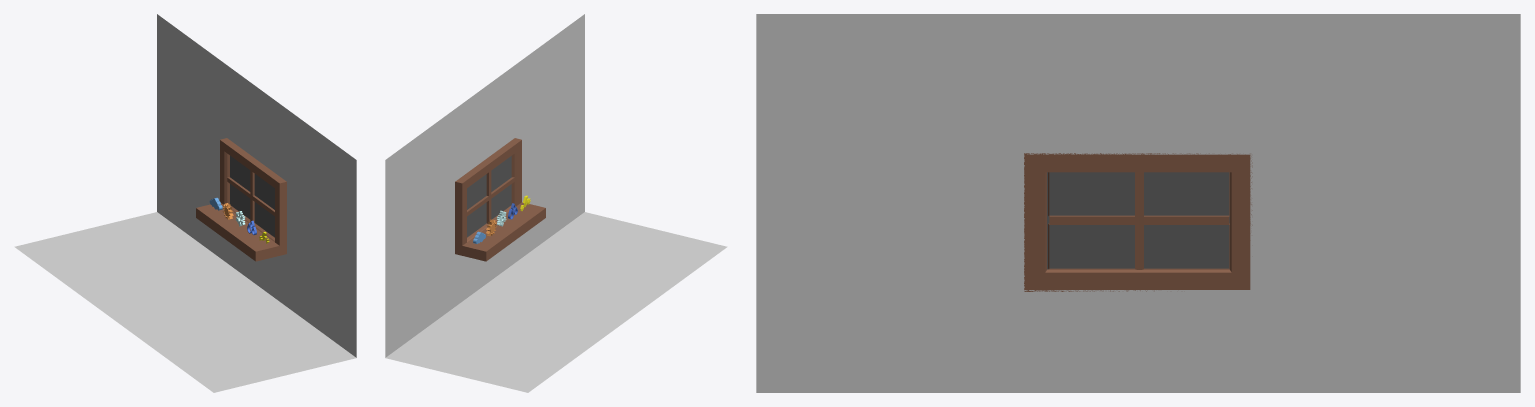
The model's file is window.glb.
The picture shows the model from 3 angles, left to right: view 1: azimuth 30°, elevation 25°; view 2: azimuth 150°, elevation 25°; view 3: azimuth 270°, elevation 25°; orthographic projection. The views are drawn at different scales.
Visible parts, largest first — view 1: Plane, Frame, Placer, Glass, Left Frame, Right frame; view 2: Plane, Frame, Placer, Glass, Right frame, Left Frame; view 3: Plane, Glass, Frame, Right frame, Left Frame.
Part boxes in pixels (x1,y1,x2,y2): Plane: [14, 14, 356, 392]; Frame: [220, 138, 286, 255]; Placer: [196, 203, 279, 261]; Glass: [230, 155, 274, 237]; Left Frame: [227, 154, 251, 222]; Right frame: [251, 171, 274, 239]; Plane: [385, 14, 727, 392]; Frame: [455, 138, 521, 255]; Placer: [462, 202, 545, 261]; Glass: [467, 156, 511, 237]; Right frame: [490, 154, 514, 220]; Left Frame: [467, 172, 489, 239]; Plane: [756, 14, 1520, 392]; Glass: [1047, 172, 1229, 269]; Frame: [1024, 153, 1252, 291]; Right frame: [1048, 172, 1139, 269]; Left Frame: [1139, 172, 1229, 269].
Size of the model in its own units: 17.95 by 23.76 by 43.43.
